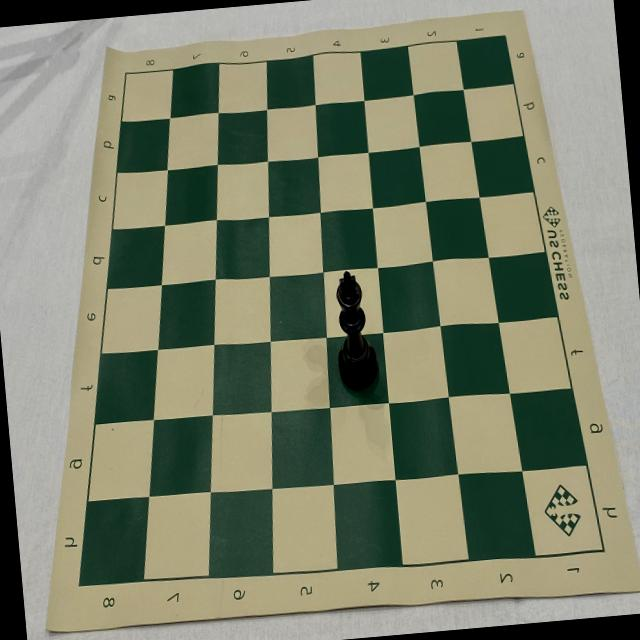black-king: (329, 268, 380, 393)
